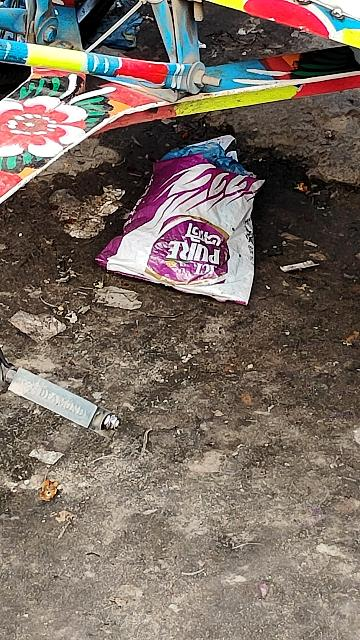packet: (99, 133, 280, 312)
